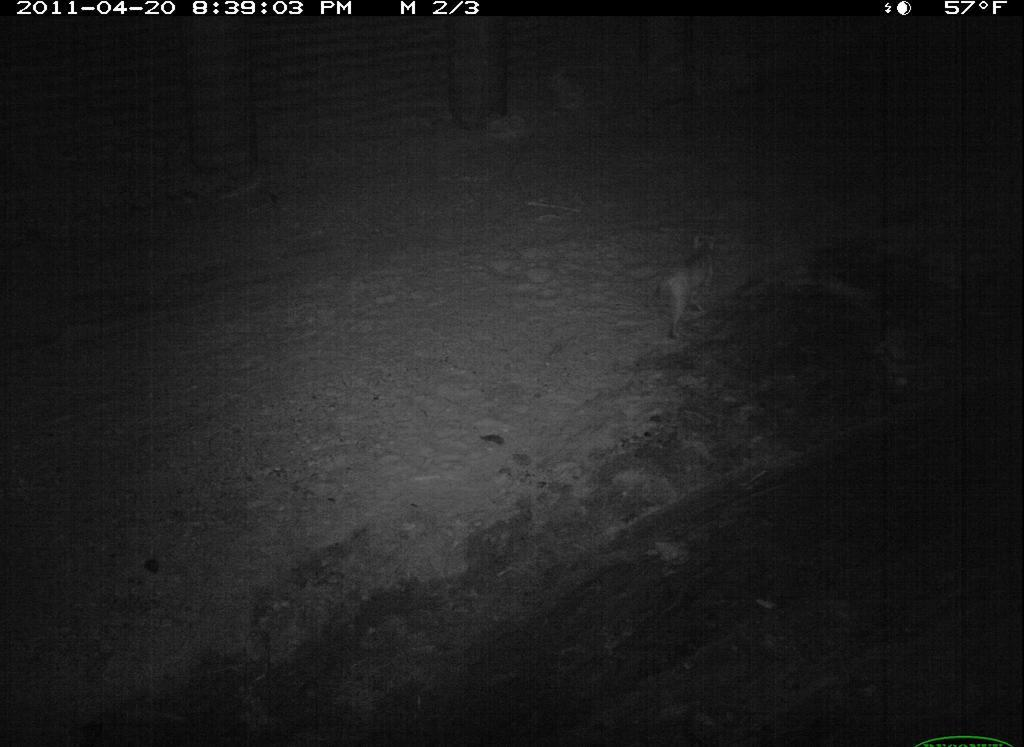bobcat: (632, 213, 731, 349)
